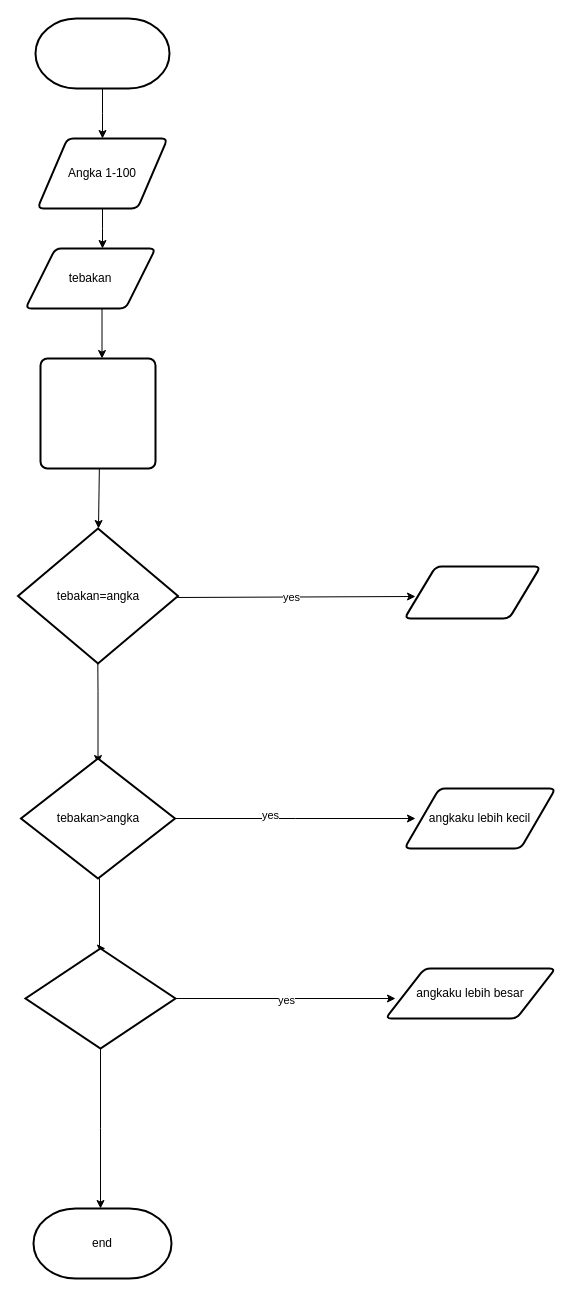
The diagram is 574 pixels wide and 1296 high, and some of its shapes have lost their labels. Each missing label, with the centre of its shape:
"jawaban benar" goes at (472,592).
"menebak" goes at (97,413).
"START" goes at (102,53).
"tebakan<angka" goes at (100,998).
